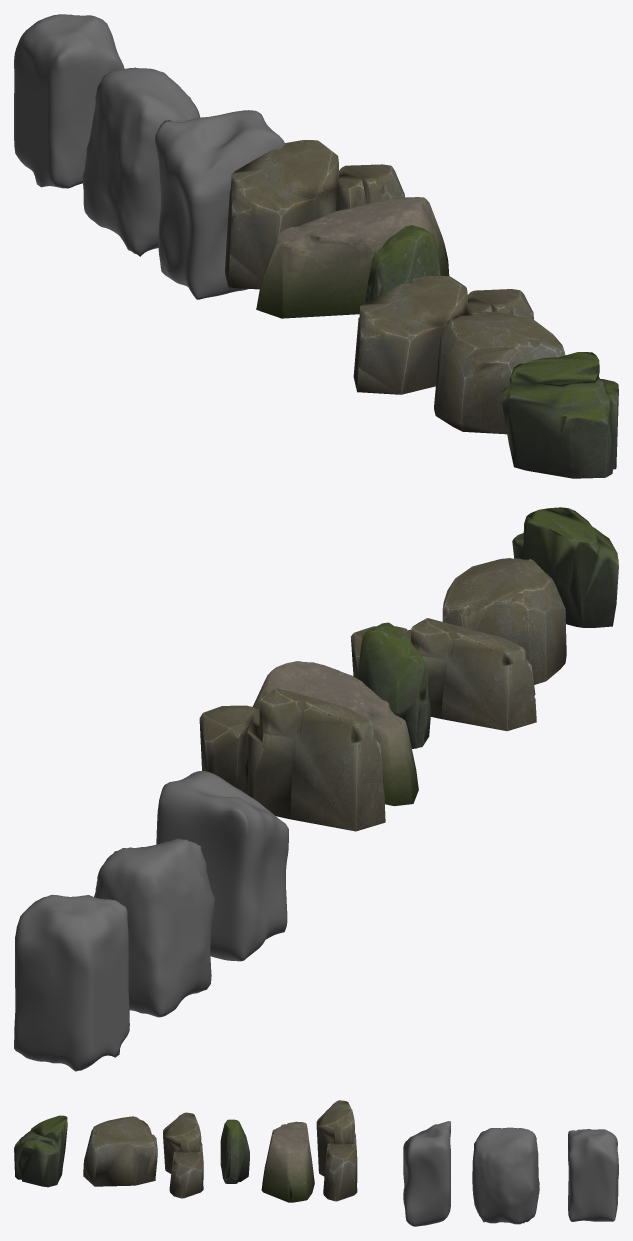
File: cum.fbx
The picture shows the model from 3 angles, top to bottom: view 1: azimuth 30°, elevation 25°; view 2: azimuth 150°, elevation 25°; view 3: azimuth 270°, elevation 25°; orthographic projection. The views are drawn at different scales.
Parts seen in each view (by area): view 1: cum3, cum2, cum, riveredge_rock005a.vmdl_c.riveredge_rock005a_model, riveredge_rock003a.vmdl_c.riveredge_rock003a_model, riveredge_rock008a.vmdl_c.riveredge_rock008a_model, riveredge_rock005a.vmdl_c.riveredge_rock005a_model.001, riveredge_rock006a.vmdl_c.riveredge_rock006a_model, riveredge_rock004a.vmdl_c.riveredge_rock004a_model; view 2: riveredge_rock005a.vmdl_c.riveredge_rock005a_model, cum2, cum3, cum, riveredge_rock005a.vmdl_c.riveredge_rock005a_model.001, riveredge_rock006a.vmdl_c.riveredge_rock006a_model, riveredge_rock008a.vmdl_c.riveredge_rock008a_model, riveredge_rock003a.vmdl_c.riveredge_rock003a_model, riveredge_rock004a.vmdl_c.riveredge_rock004a_model; view 3: cum, cum2, riveredge_rock006a.vmdl_c.riveredge_rock006a_model, cum3, riveredge_rock005a.vmdl_c.riveredge_rock005a_model, riveredge_rock003a.vmdl_c.riveredge_rock003a_model, riveredge_rock008a.vmdl_c.riveredge_rock008a_model, riveredge_rock005a.vmdl_c.riveredge_rock005a_model.001, riveredge_rock004a.vmdl_c.riveredge_rock004a_model.
Part boxes in pixels (left/top/right/bottom): cum3: left=154, top=110, right=284, bottom=299; cum2: left=14, top=14, right=124, bottom=188; cum: left=82, top=67, right=200, bottom=256; riveredge_rock005a.vmdl_c.riveredge_rock005a_model: left=225, top=140, right=404, bottom=289; riveredge_rock003a.vmdl_c.riveredge_rock003a_model: left=256, top=197, right=449, bottom=318; riveredge_rock008a.vmdl_c.riveredge_rock008a_model: left=502, top=352, right=618, bottom=478; riveredge_rock005a.vmdl_c.riveredge_rock005a_model.001: left=353, top=275, right=533, bottom=394; riveredge_rock006a.vmdl_c.riveredge_rock006a_model: left=434, top=311, right=565, bottom=434; riveredge_rock004a.vmdl_c.riveredge_rock004a_model: left=365, top=225, right=440, bottom=302; riveredge_rock005a.vmdl_c.riveredge_rock005a_model: left=199, top=688, right=385, bottom=831; cum2: left=14, top=894, right=129, bottom=1071; cum3: left=156, top=771, right=288, bottom=961; cum: left=94, top=838, right=215, bottom=1017; riveredge_rock005a.vmdl_c.riveredge_rock005a_model.001: left=350, top=618, right=536, bottom=731; riveredge_rock006a.vmdl_c.riveredge_rock006a_model: left=442, top=558, right=566, bottom=684; riveredge_rock008a.vmdl_c.riveredge_rock008a_model: left=512, top=507, right=618, bottom=627; riveredge_rock003a.vmdl_c.riveredge_rock003a_model: left=252, top=661, right=418, bottom=806; riveredge_rock004a.vmdl_c.riveredge_rock004a_model: left=357, top=622, right=431, bottom=748; cum: left=472, top=1127, right=539, bottom=1224; cum2: left=568, top=1129, right=618, bottom=1221; riveredge_rock006a.vmdl_c.riveredge_rock006a_model: left=83, top=1116, right=157, bottom=1186; cum3: left=403, top=1121, right=450, bottom=1226; riveredge_rock005a.vmdl_c.riveredge_rock005a_model: left=316, top=1100, right=357, bottom=1201; riveredge_rock003a.vmdl_c.riveredge_rock003a_model: left=261, top=1121, right=314, bottom=1202; riveredge_rock008a.vmdl_c.riveredge_rock008a_model: left=14, top=1115, right=67, bottom=1187; riveredge_rock005a.vmdl_c.riveredge_rock005a_model.001: left=163, top=1112, right=203, bottom=1198; riveredge_rock004a.vmdl_c.riveredge_rock004a_model: left=220, top=1119, right=249, bottom=1183.
Bounding box in the file's own units: 967 × 941 × 4814.
